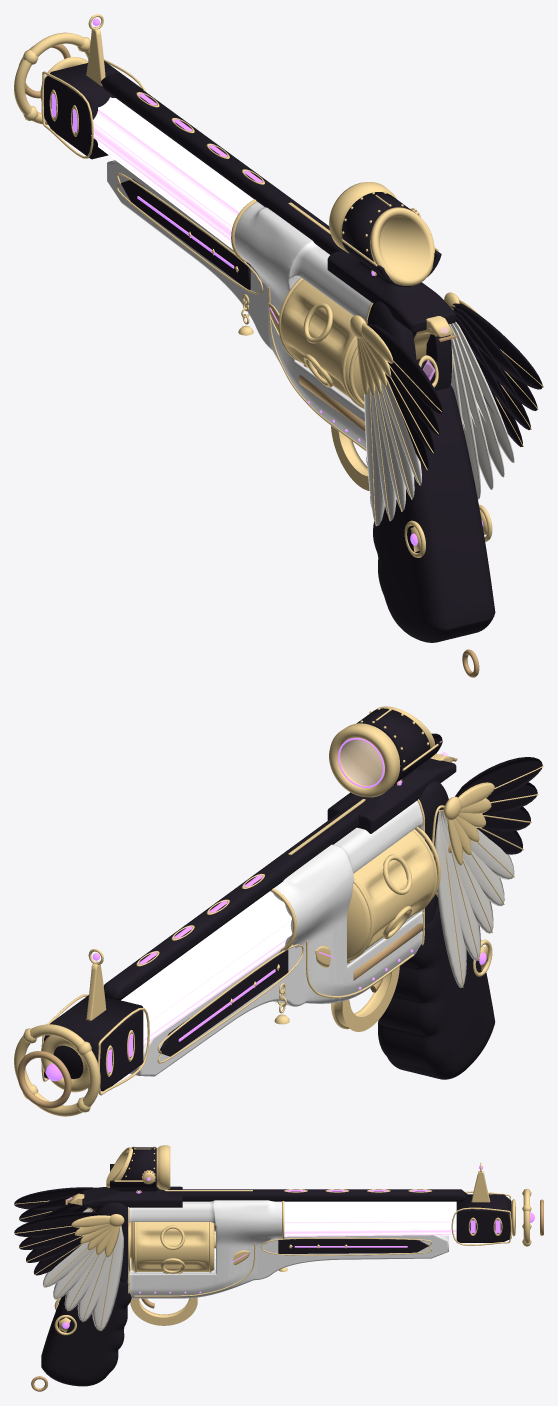
File: revolver-BpY1I66X.glb
3 renders of one model, top to bottom at view 1: azimuth 30°, elevation 25°; view 2: azimuth 150°, elevation 25°; view 3: azimuth 270°, elevation 25°, orthographic. The views are drawn at different scales.
Visible parts, largest first — view 1: body, wing_L_mesh, wing_R_mesh, drum_mesh, muzzle_ringA, hammer_mesh; view 2: body, wing_L_mesh, drum_mesh, muzzle_ringA, muzzle_ringB, crane_mesh; view 3: body, wing_R_mesh, drum_mesh, wing_L_mesh, muzzle_ringA.
Boxes of the visible parts, <box> form: body: <box>40,14,495,677</box>; wing_L_mesh: <box>350,315,442,526</box>; wing_R_mesh: <box>444,292,543,499</box>; drum_mesh: <box>278,277,364,408</box>; muzzle_ringA: <box>14,32,90,124</box>; hammer_mesh: <box>412,316,457,359</box>; body: <box>40,706,495,1095</box>; wing_L_mesh: <box>434,757,543,987</box>; drum_mesh: <box>347,829,437,961</box>; muzzle_ringA: <box>14,1024,100,1116</box>; muzzle_ringB: <box>17,1051,71,1108</box>; crane_mesh: <box>347,923,423,980</box>; body: <box>31,1145,515,1391</box>; wing_R_mesh: <box>14,1212,124,1331</box>; drum_mesh: <box>130,1222,215,1273</box>; wing_L_mesh: <box>14,1187,96,1222</box>; muzzle_ringA: <box>522,1189,531,1246</box>.
Size of the model in its own units: 0.0568 by 0.2146 by 0.4221.
